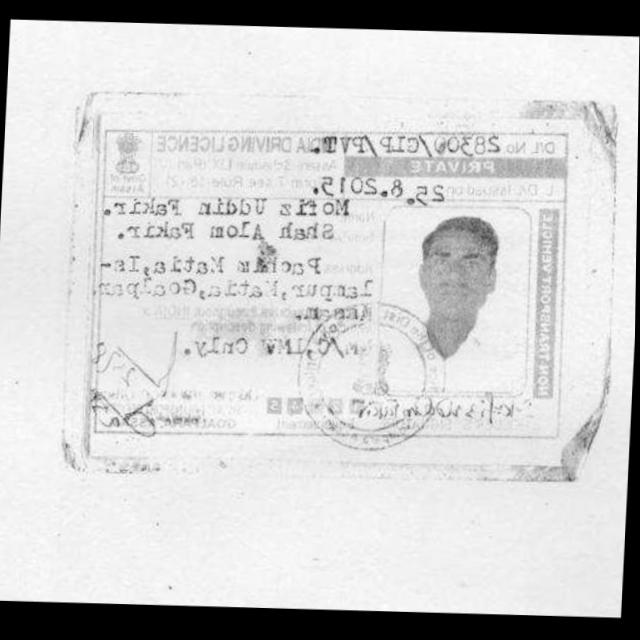driving_licence: (77, 102, 597, 465)
